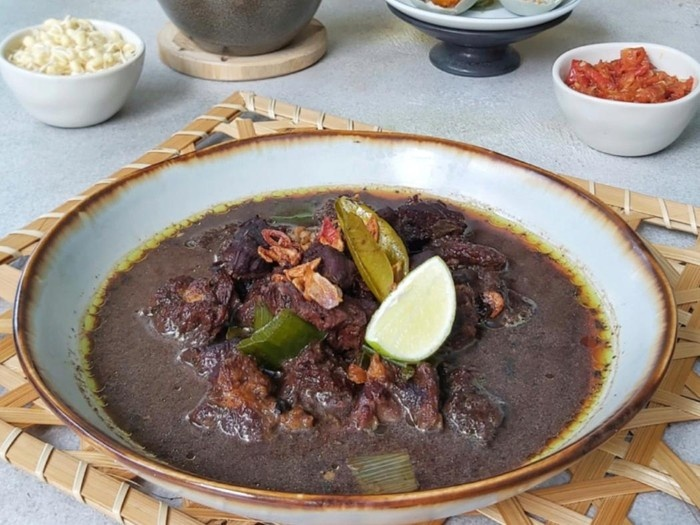rawon: (25, 120, 645, 518)
